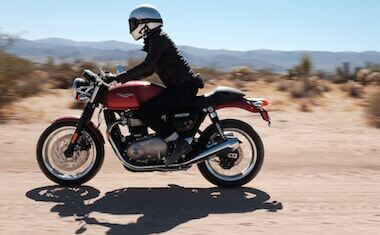helmet: (122, 5, 169, 40)
